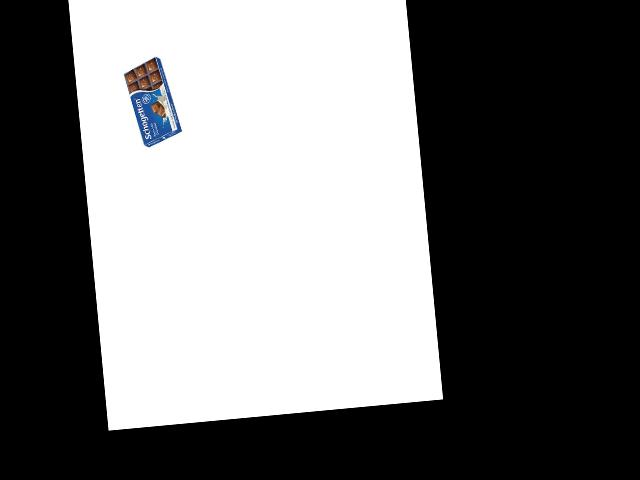chocolate: (122, 54, 176, 150)
